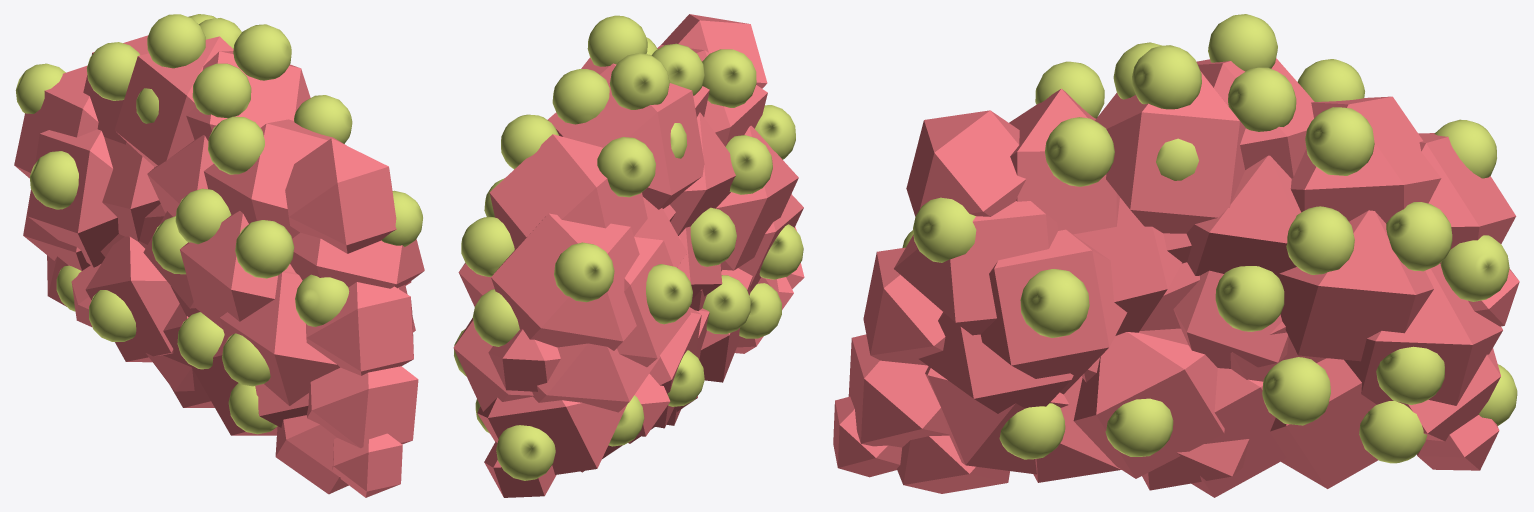
File: abstractcloud.fbx
3 views of the same model, side by side, from view 1: azimuth 30°, elevation 25°; view 2: azimuth 150°, elevation 25°; view 3: azimuth 270°, elevation 25° (orthographic). The views are drawn at different scales.
Parts seen in each view (by area): view 1: abstractcloud; view 2: abstractcloud; view 3: abstractcloud.
Part boxes in pixels (x1,y1,x2,y2): abstractcloud: (14, 14, 424, 497); abstractcloud: (453, 14, 804, 497); abstractcloud: (833, 14, 1519, 497).
Bounding box in the file's own units: 27.91 × 42.58 × 57.29.
